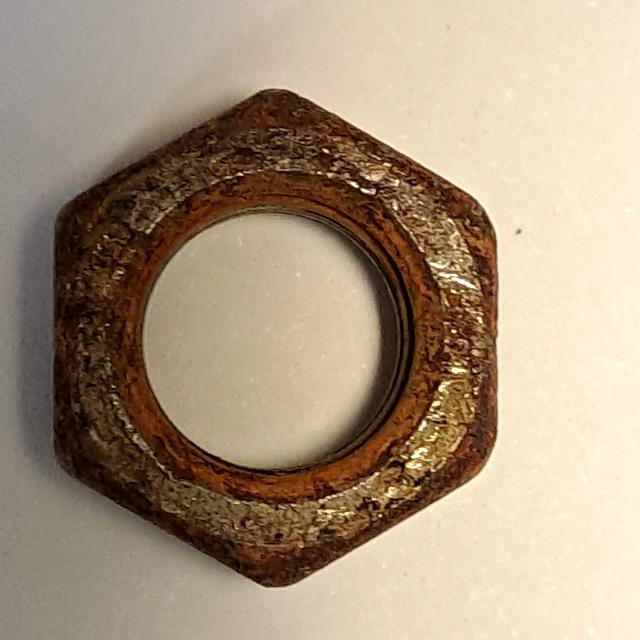Rust: (38, 72, 513, 601)
